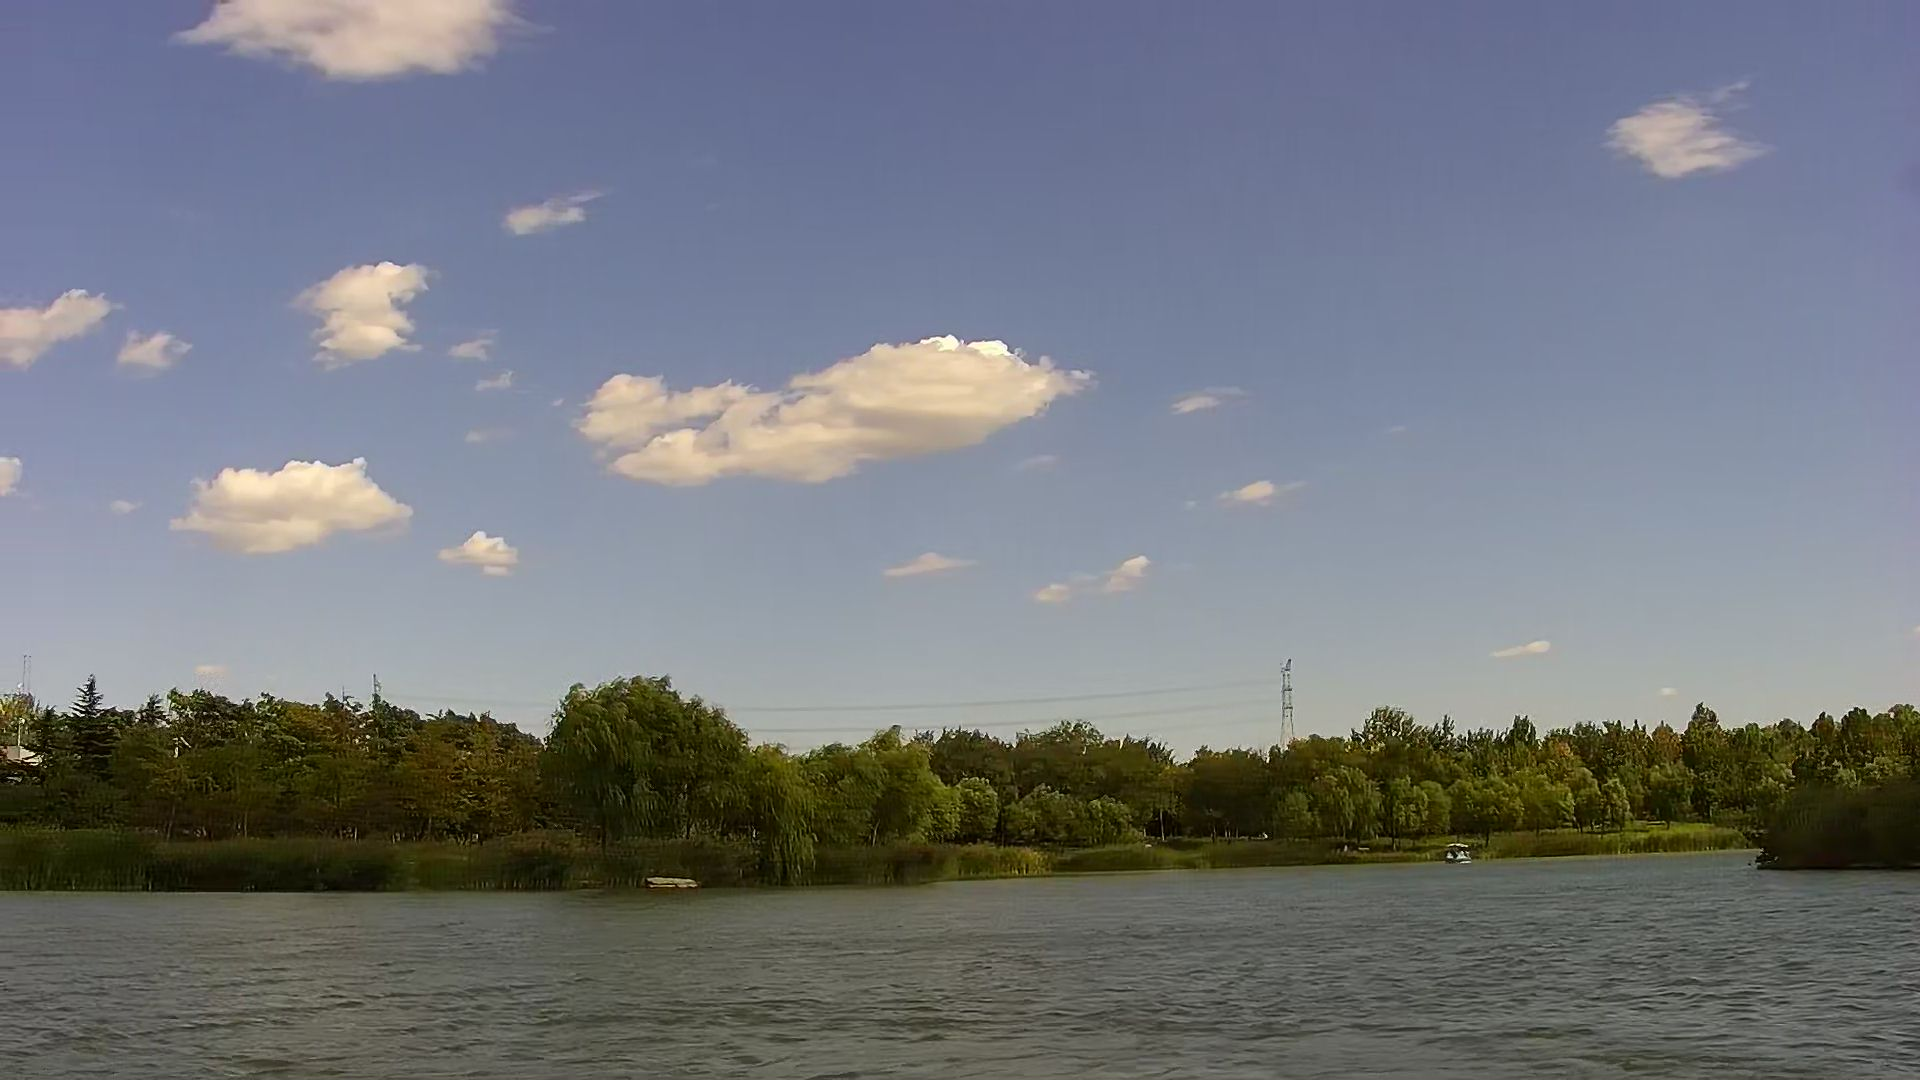boat: (1447, 839, 1470, 868)
rock: (646, 877, 696, 889)
